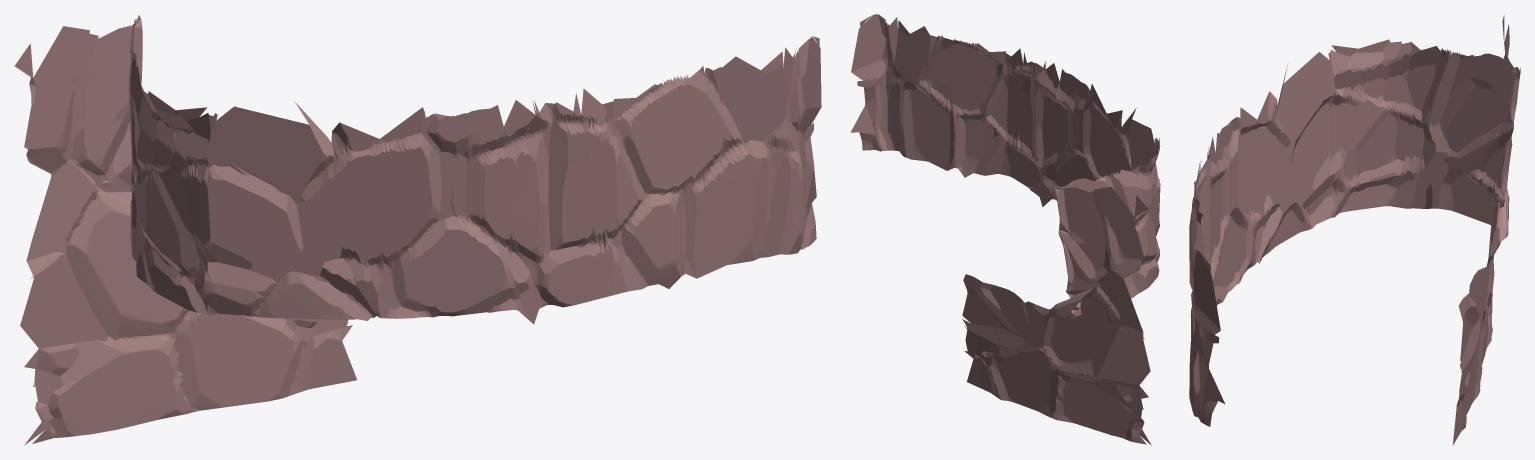
The model's file is cliff_area_2.fbx_Cliff_Area_2_022LODs.fbx.
The picture shows the model from 3 angles, left to right: view 1: azimuth 30°, elevation 25°; view 2: azimuth 150°, elevation 25°; view 3: azimuth 270°, elevation 25°; orthographic projection. The views are drawn at different scales.
Visible parts, largest first — view 1: Cliff Area 2.022_LOD0; view 2: Cliff Area 2.022_LOD0; view 3: Cliff Area 2.022_LOD0.
Part boxes in pixels (x1=…): Cliff Area 2.022_LOD0: x1=14, y1=15, x2=821, y2=445; Cliff Area 2.022_LOD0: x1=850, y1=14, x2=1160, y2=445; Cliff Area 2.022_LOD0: x1=1189, y1=15, x2=1520, y2=445.
Size of what is drawn, in the model's own units: 6483 by 3923 by 3602.
